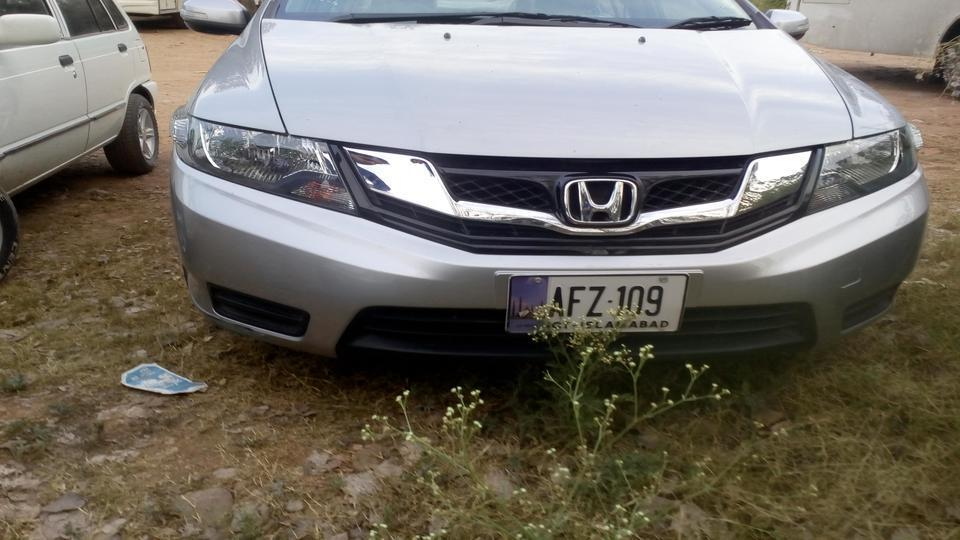NumberPlate: (506, 269, 693, 343)
